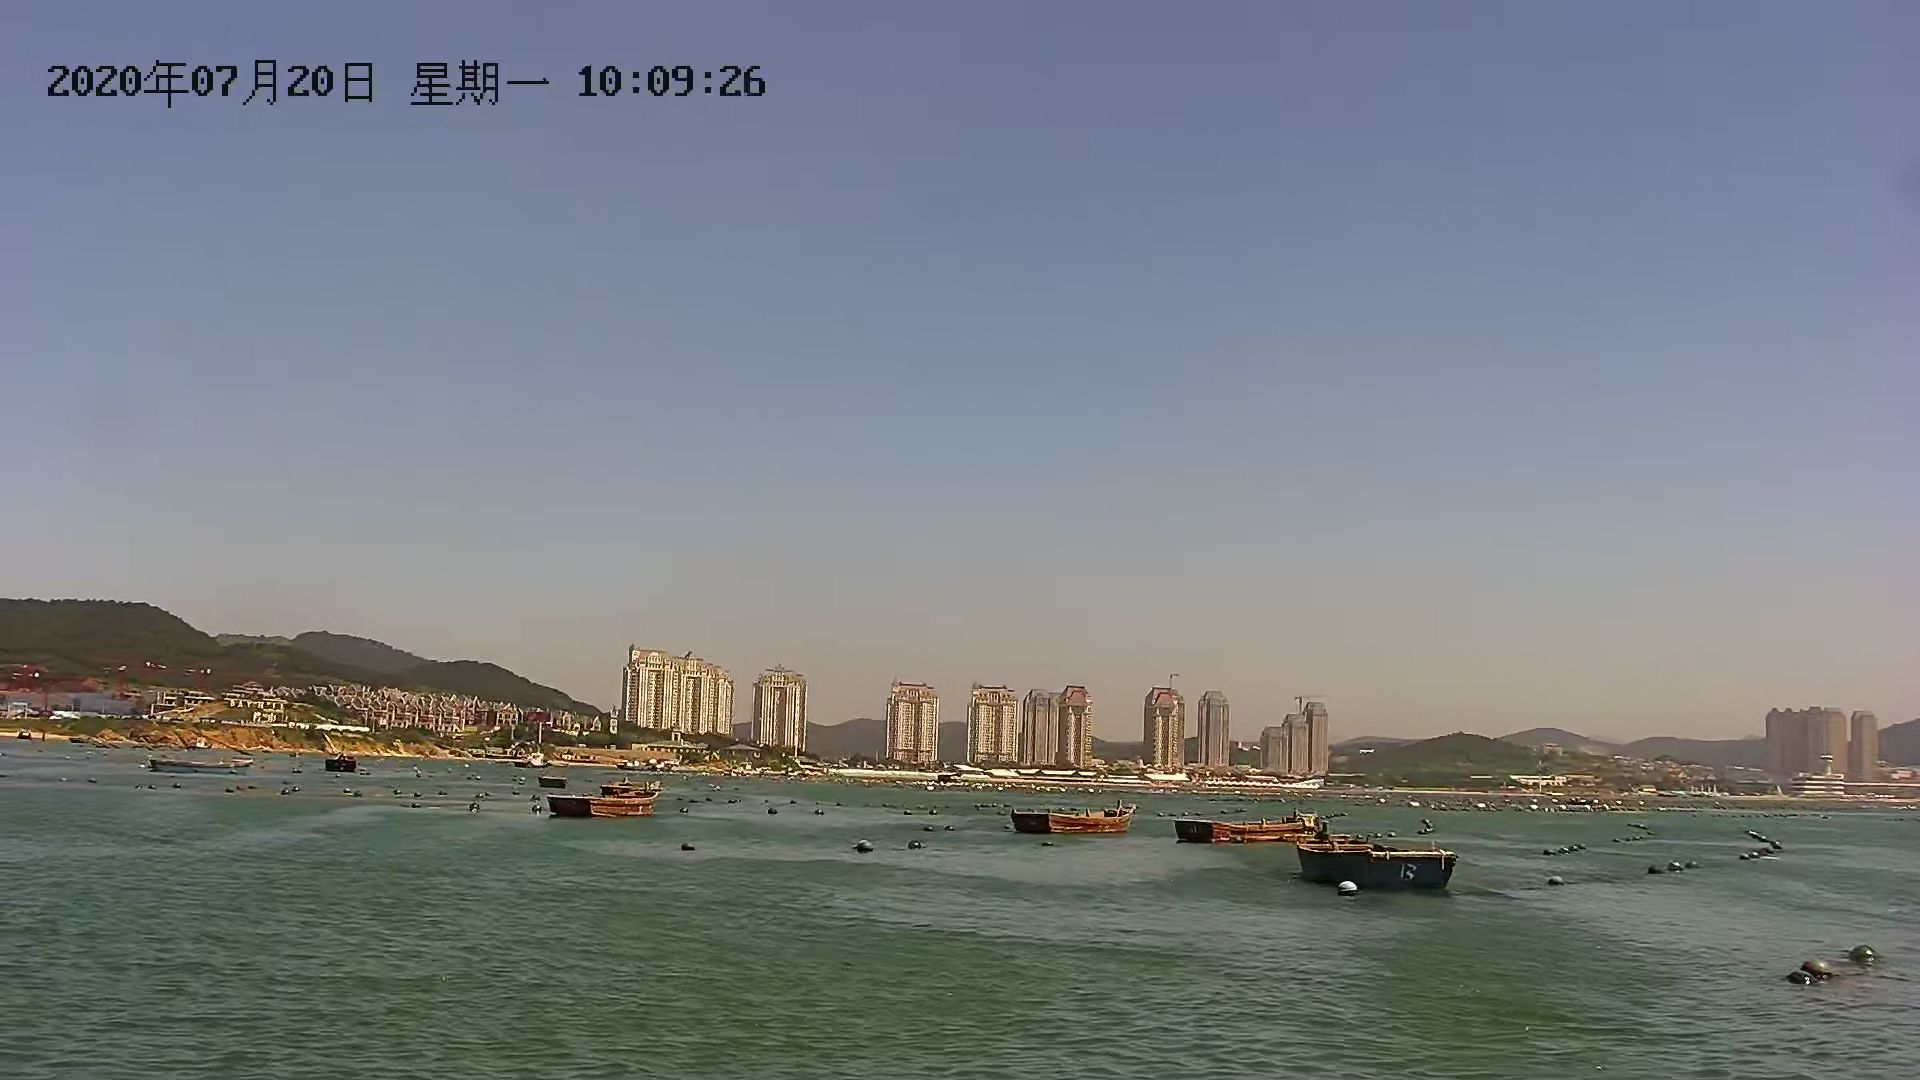ball: (1850, 939, 1876, 969), (1805, 957, 1833, 984), (848, 832, 872, 858)
boat: (1296, 839, 1462, 902), (1172, 812, 1335, 849), (547, 779, 665, 825), (1011, 803, 1139, 840), (142, 753, 258, 781)
